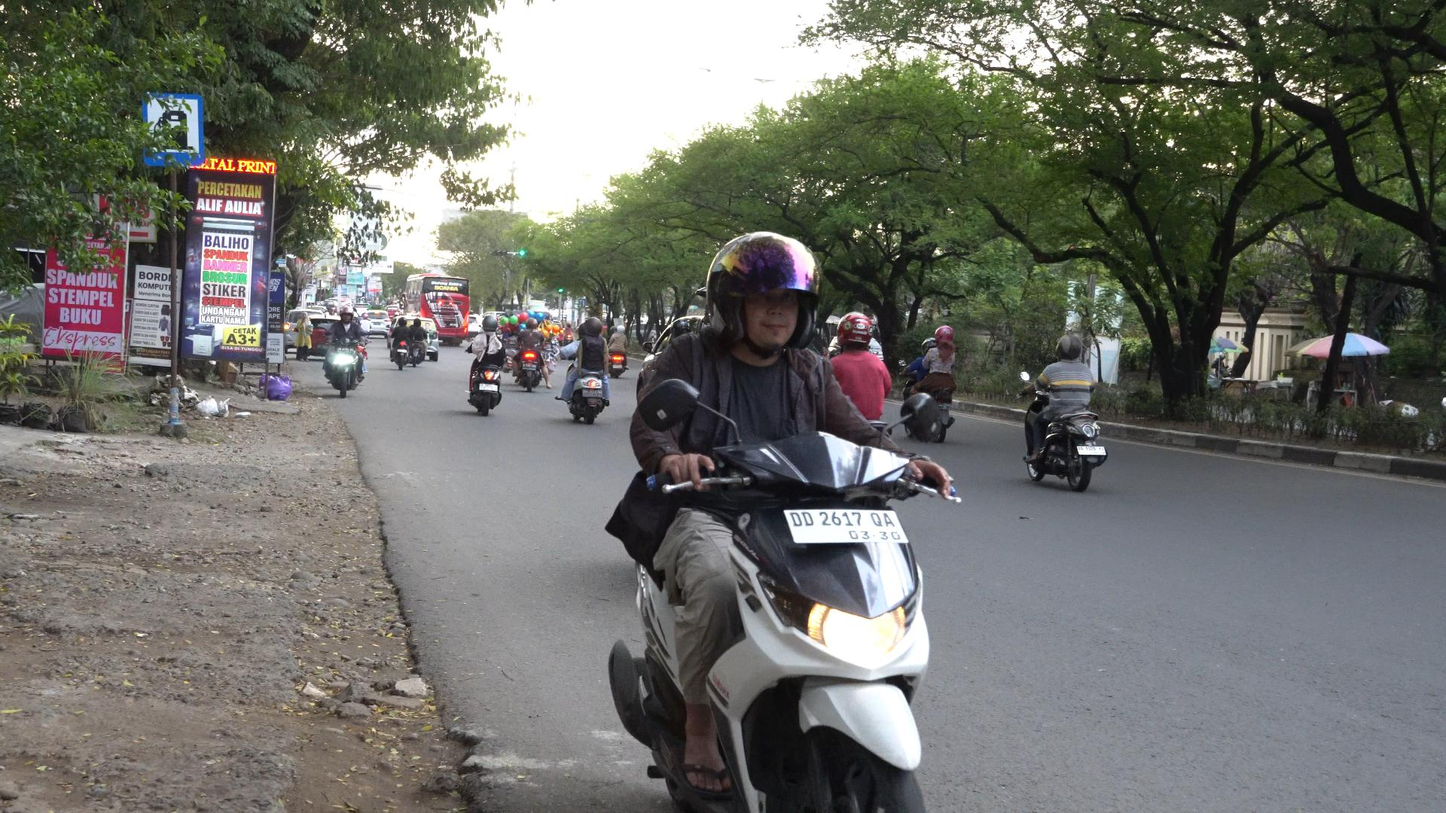number-plate: (782, 506, 910, 547)
